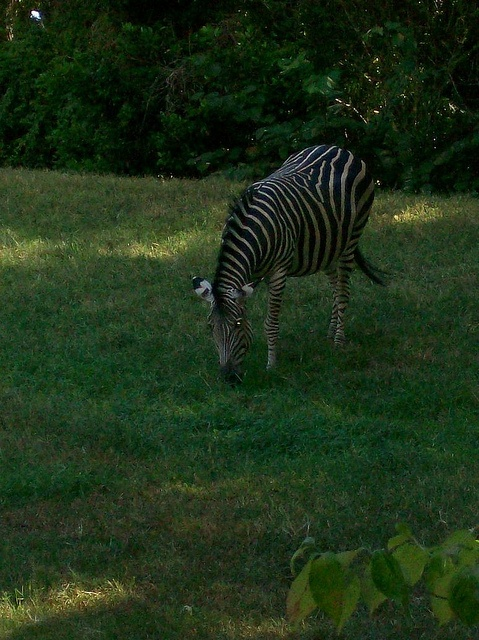zebra: (289, 264, 479, 506)
